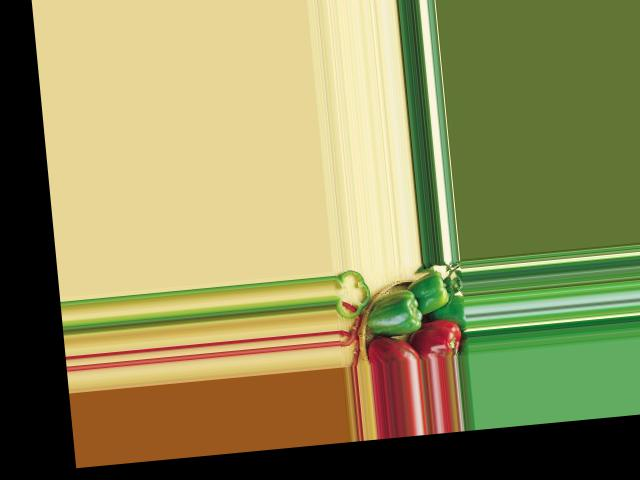bell_pepper: (365, 335, 421, 364)
